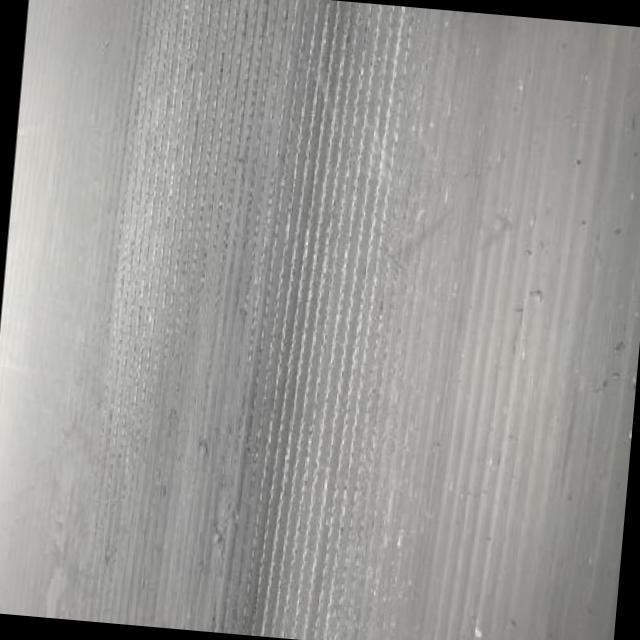Wear: (63, 0, 433, 640)
